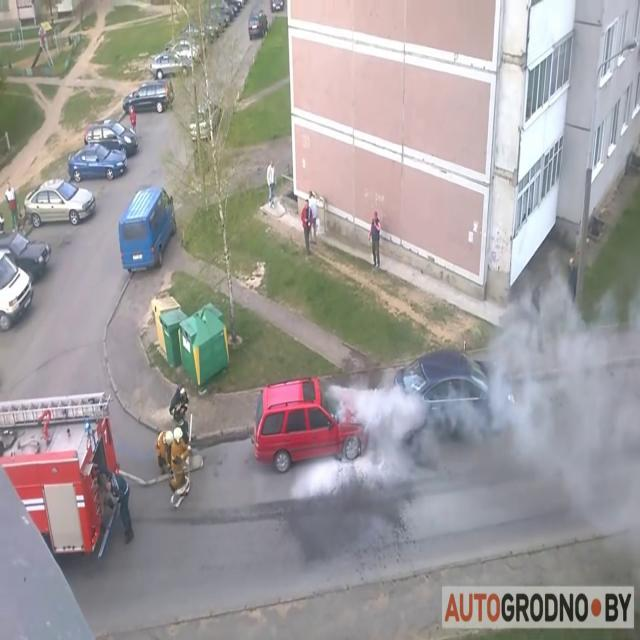Smoke: (340, 256, 640, 502)
